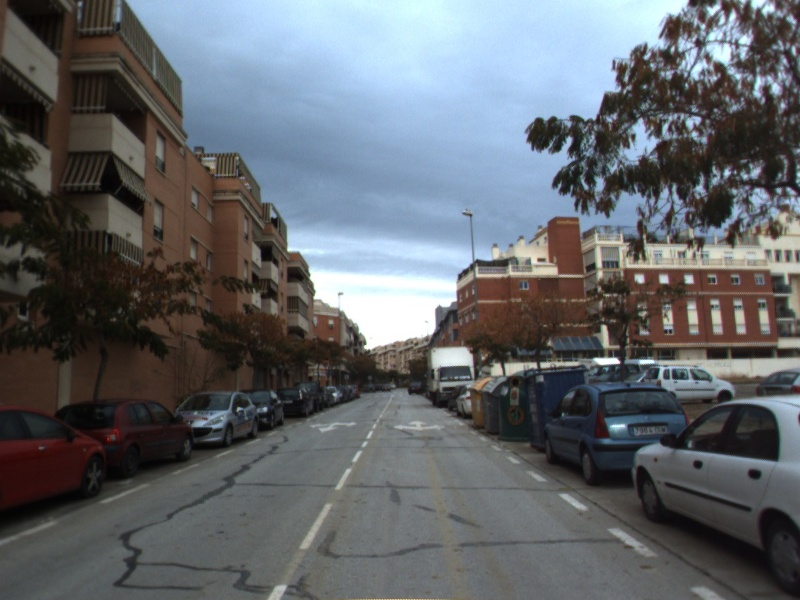STRAIGHT_LEFT_RIGHT: (391, 419, 448, 432)
